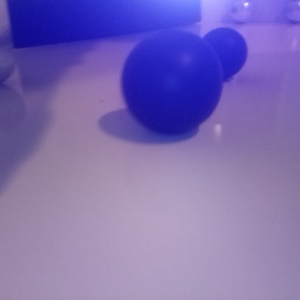alive_ball: (1, 31, 17, 82), (229, 1, 252, 23), (285, 1, 300, 22)
dead_ball: (122, 29, 223, 132), (199, 28, 247, 80)
